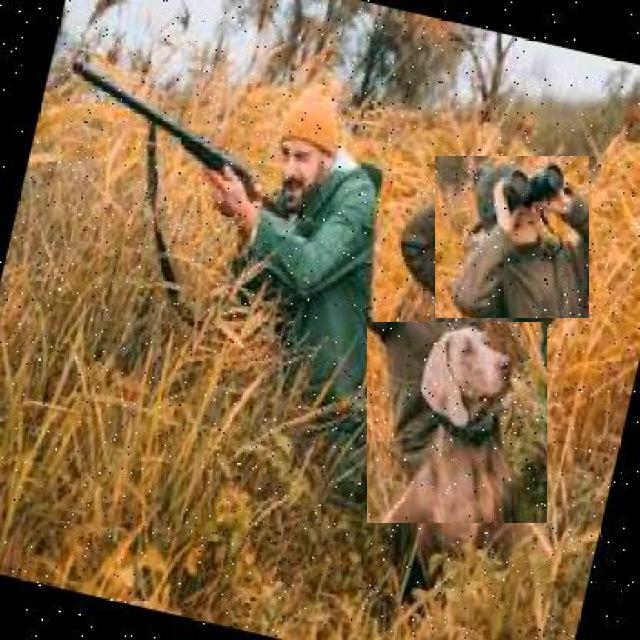p_date: (368, 322, 548, 523)
poacher: (80, 46, 408, 322), (436, 156, 590, 318)
weapon: (72, 59, 277, 192)
